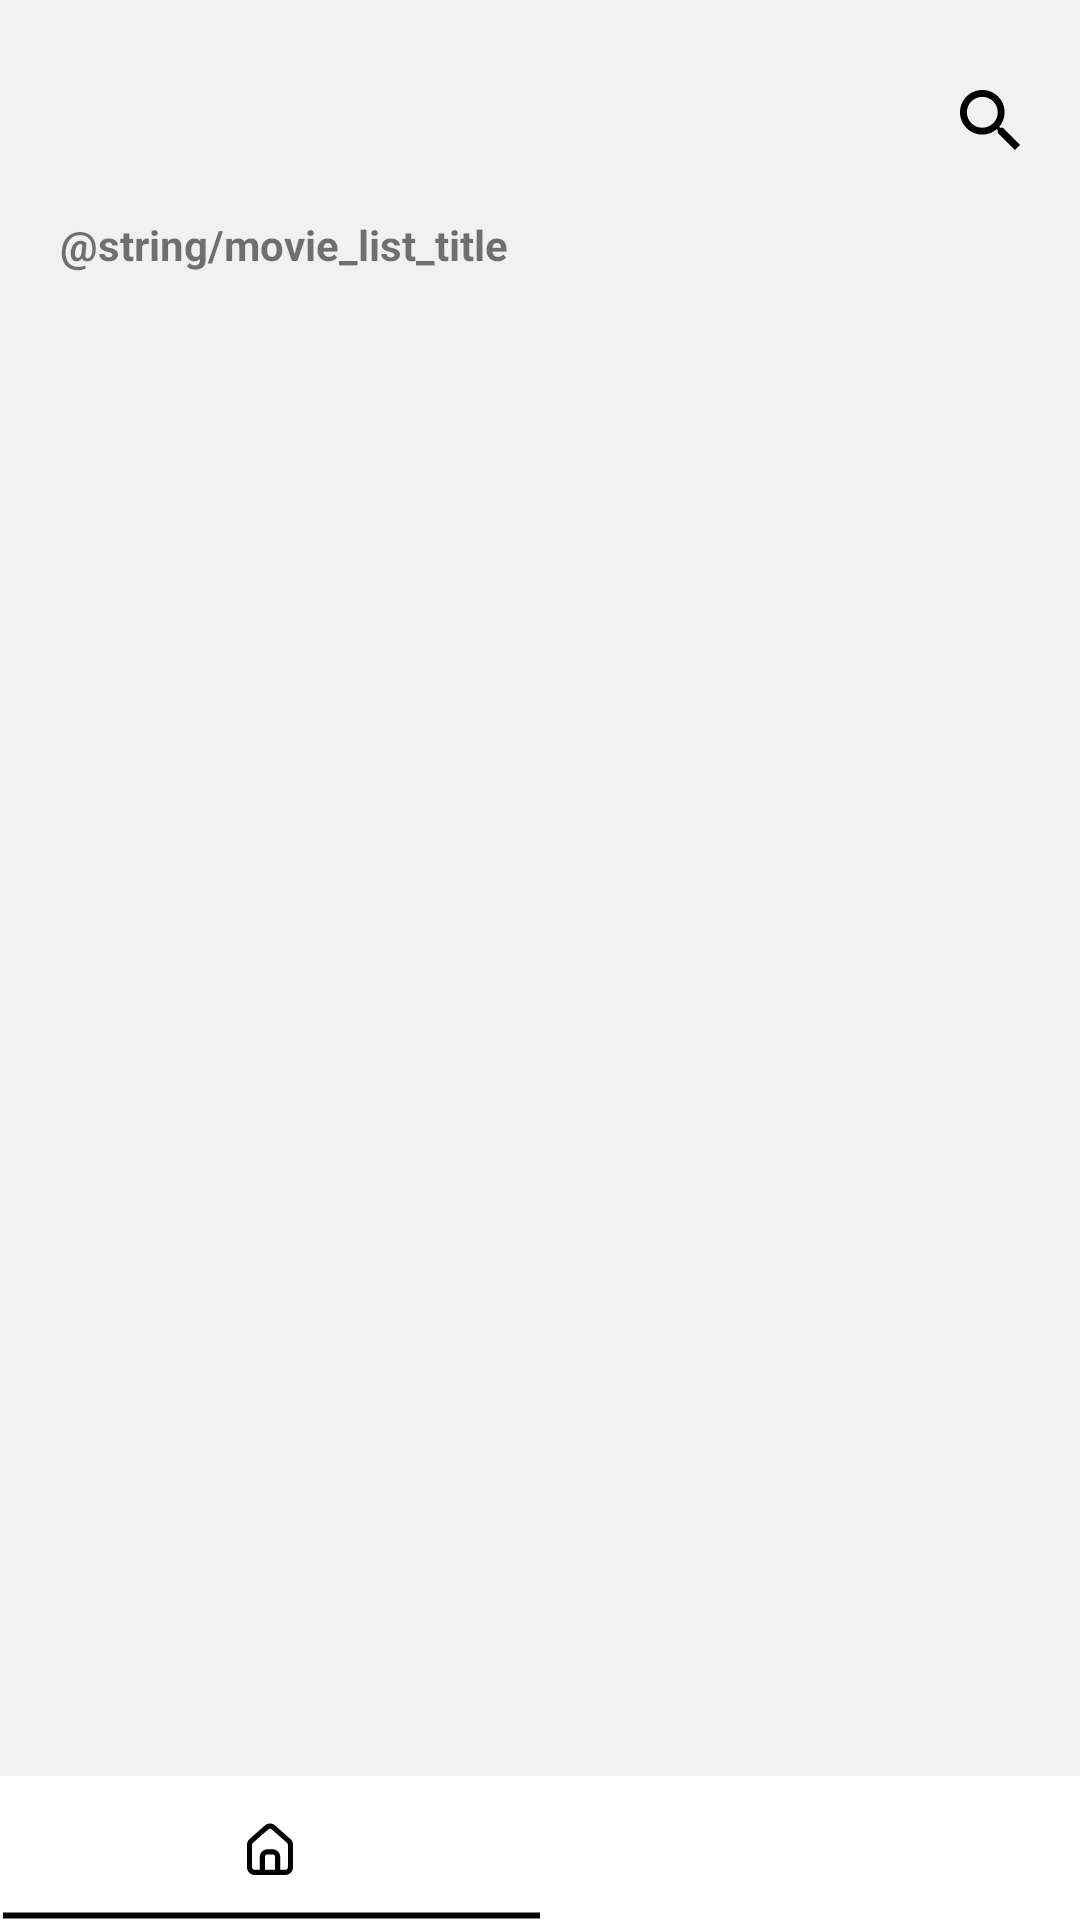

Icons on this 1080*1920 Android screen, each with its box as (x1, y1, x2, y2):
home: (247, 1823, 293, 1875)
search: (960, 90, 1020, 150)
